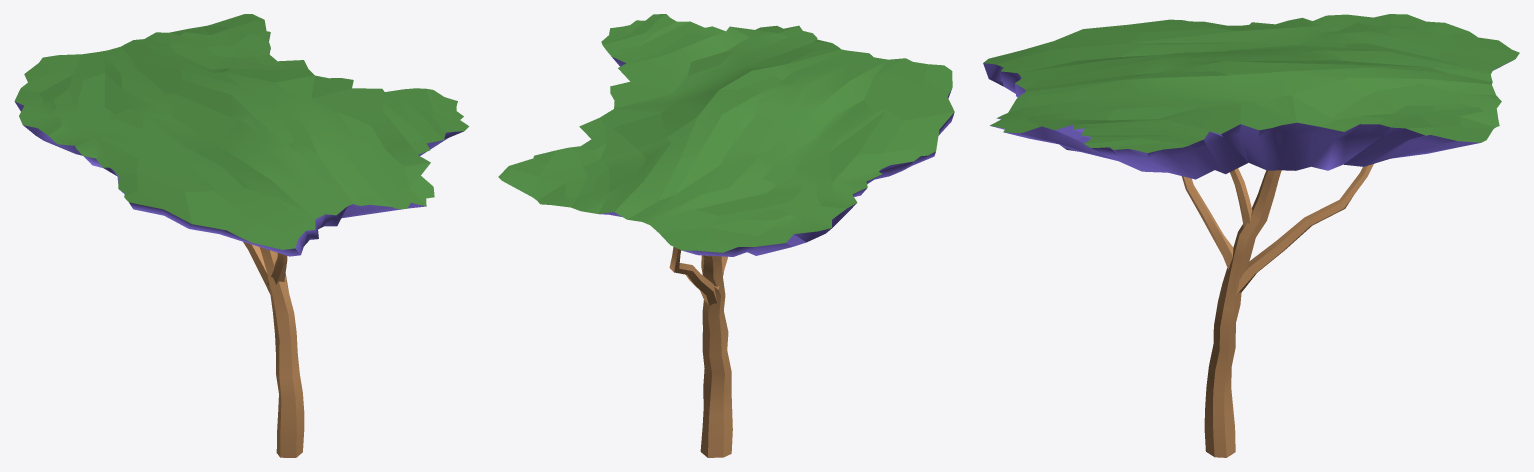
The model's file is tree_H_canopy_solo.fbx.
The picture shows the model from 3 angles, left to right: view 1: azimuth 30°, elevation 25°; view 2: azimuth 150°, elevation 25°; view 3: azimuth 270°, elevation 25°; orthographic projection. The views are drawn at different scales.
Parts seen in each view (by area): view 1: tree_H_canopy_solo, tree_H_canopy_trunks_A; view 2: tree_H_canopy_solo, tree_H_canopy_trunks_A, tree_H_canopy_trunk_H2; view 3: tree_H_canopy_solo, tree_H_canopy_trunks_A, tree_H_canopy_trunk_H2, tree_H_canopy_trunk_H, tree_H_canopy_trunks_C.
Boxes of the visible parts, <box> form: tree_H_canopy_solo: <box>14,14,469,256</box>; tree_H_canopy_trunks_A: <box>259,247,304,457</box>; tree_H_canopy_solo: <box>498,14,954,256</box>; tree_H_canopy_trunks_A: <box>700,255,732,457</box>; tree_H_canopy_trunk_H2: <box>669,246,717,305</box>; tree_H_canopy_solo: <box>983,14,1519,179</box>; tree_H_canopy_trunks_A: <box>1204,170,1281,457</box>; tree_H_canopy_trunk_H2: <box>1236,164,1373,294</box>; tree_H_canopy_trunk_H: <box>1181,176,1233,269</box>; tree_H_canopy_trunks_C: <box>1230,168,1252,227</box>.
Size of the model in its own units: 579 by 596 by 778.
